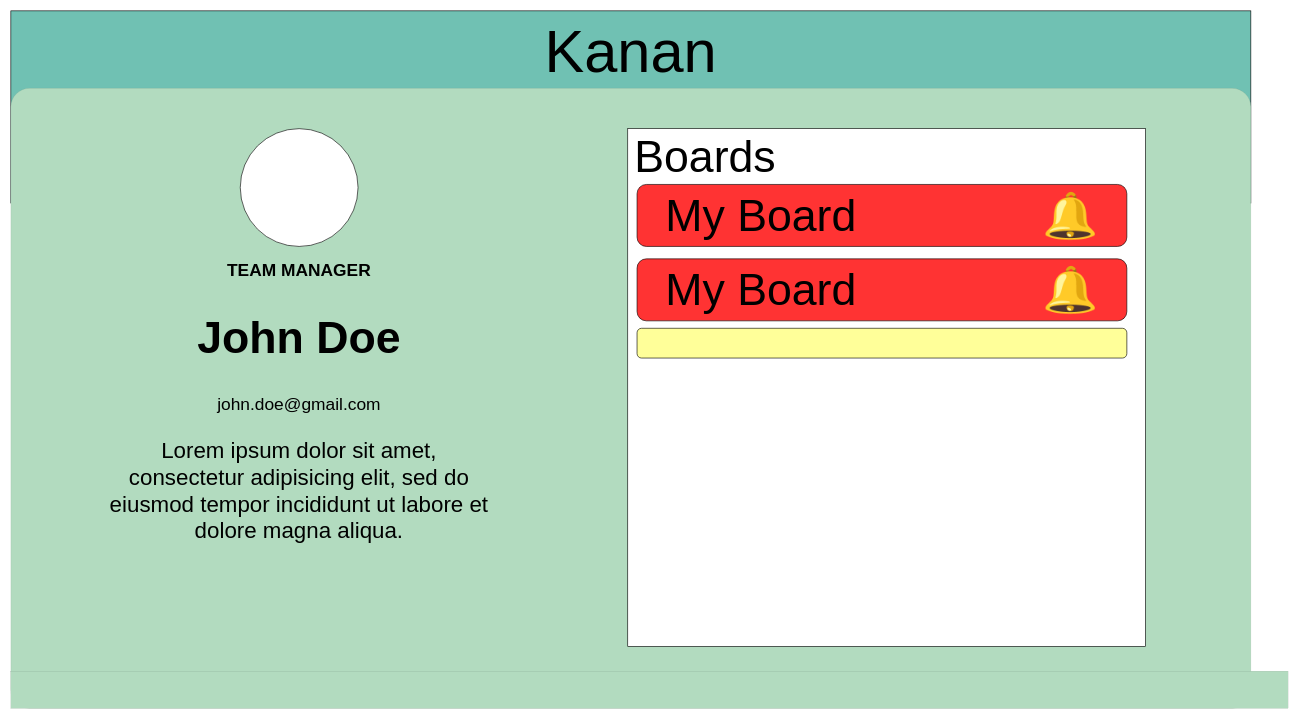
Some shapes in this 1299 by 719 pixel diagram are drawn without their labels. The shapes that lost their labels are listed below. From the top down, each one's box as (x1, y1, x2, y2) in pixels, then its label:
(240, 128, 358, 246): PROFILE PICTURE
(636, 328, 1127, 358): Create a new Board...
